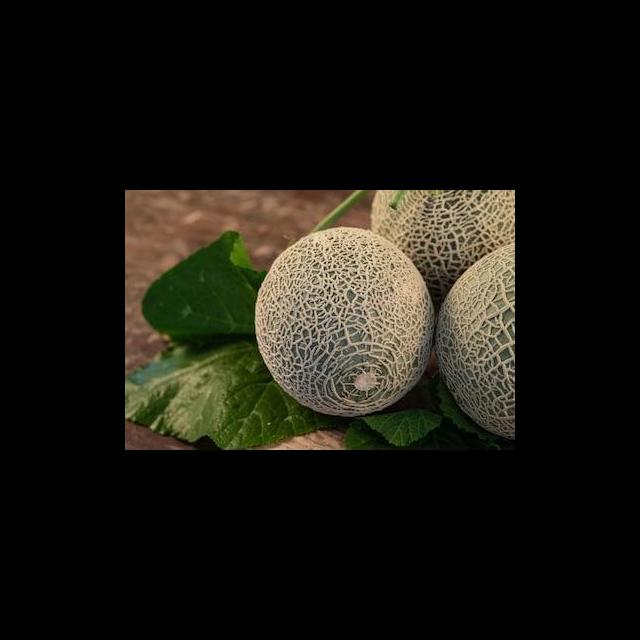Hami Melon: (254, 227, 436, 416)
